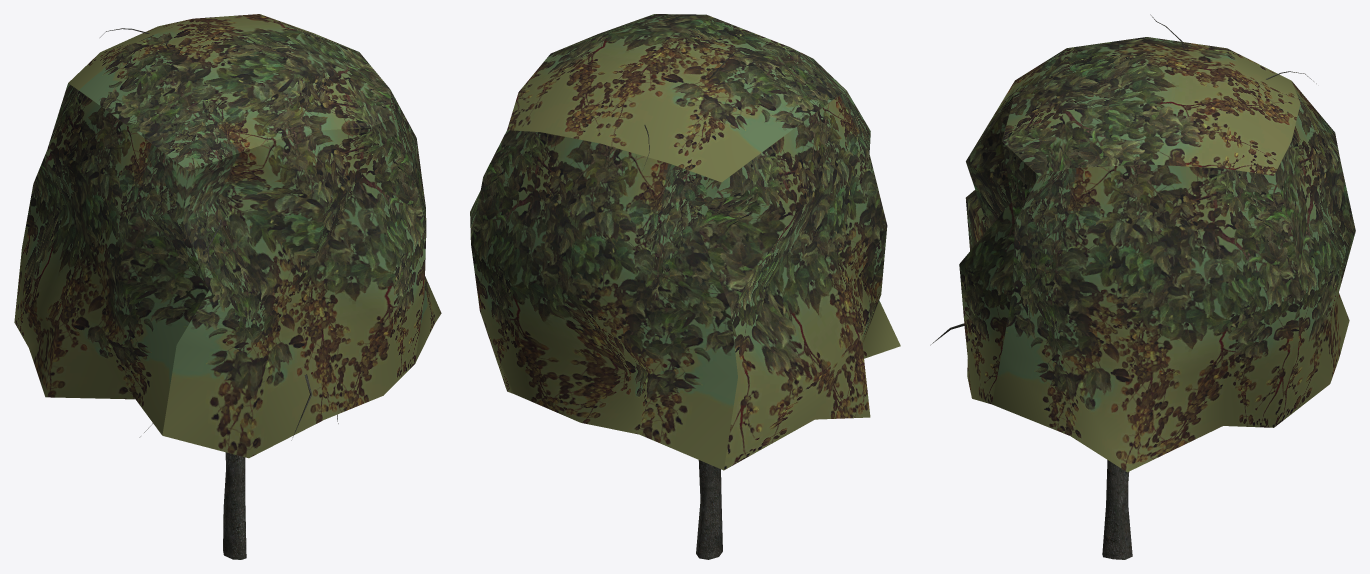
Rendered from SmallTree.fbx.
3 views of the same model, side by side, from view 1: azimuth 30°, elevation 25°; view 2: azimuth 150°, elevation 25°; view 3: azimuth 270°, elevation 25° (orthographic). The views are drawn at different scales.
Visible parts, largest first — view 1: SmallTree.001; view 2: SmallTree.001; view 3: SmallTree.001.
Part boxes in pixels (x1,y1,x2,y2): SmallTree.001: [14, 14, 441, 559]; SmallTree.001: [470, 14, 900, 559]; SmallTree.001: [930, 14, 1355, 559].
Size of the model in its own units: 7.01 by 8.91 by 6.74.
2 materials, 2 textured.
